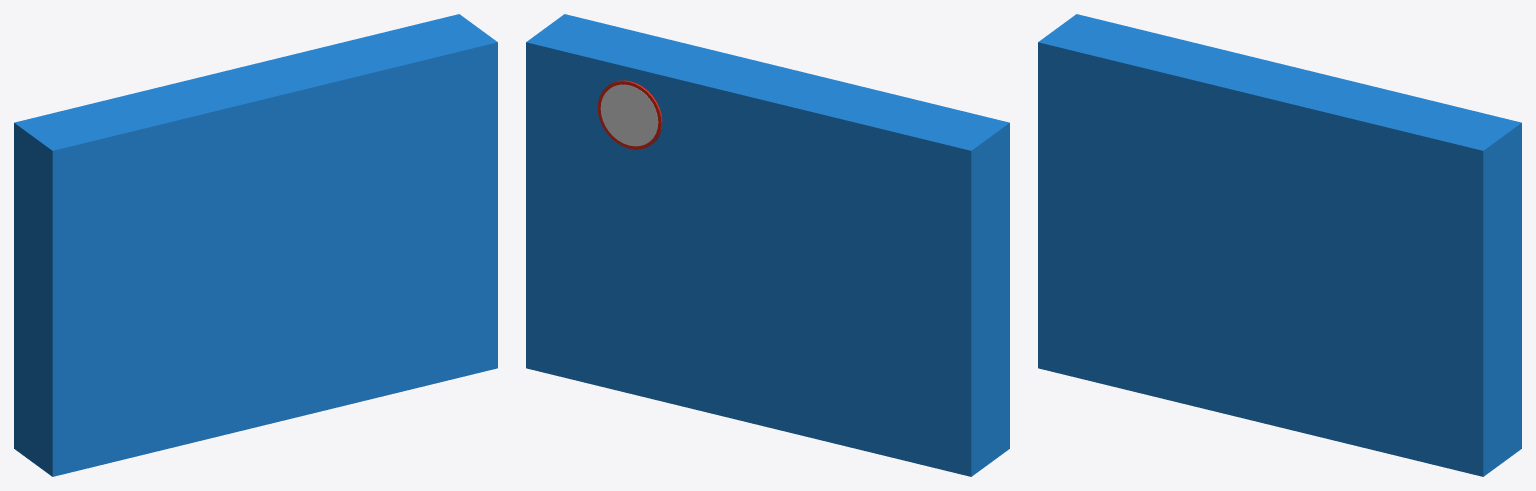
The model's file is FrozenChicken.fbx.
The picture shows the model from 3 angles, left to right: view 1: azimuth 30°, elevation 25°; view 2: azimuth 150°, elevation 25°; view 3: azimuth 330°, elevation 25°; orthographic projection.
Parts seen in each view (by area): view 1: Cube; view 2: Cube, Cylinder, Cylinder.001; view 3: Cube.
Boxes of the visible parts, x1,y1,x2,y2 form: Cube: [14, 14, 497, 476]; Cube: [526, 14, 1009, 476]; Cylinder: [600, 84, 658, 146]; Cylinder.001: [597, 80, 662, 149]; Cube: [1038, 14, 1521, 476].
Size of the model in its own units: 95.81 by 67.04 by 14.85.
